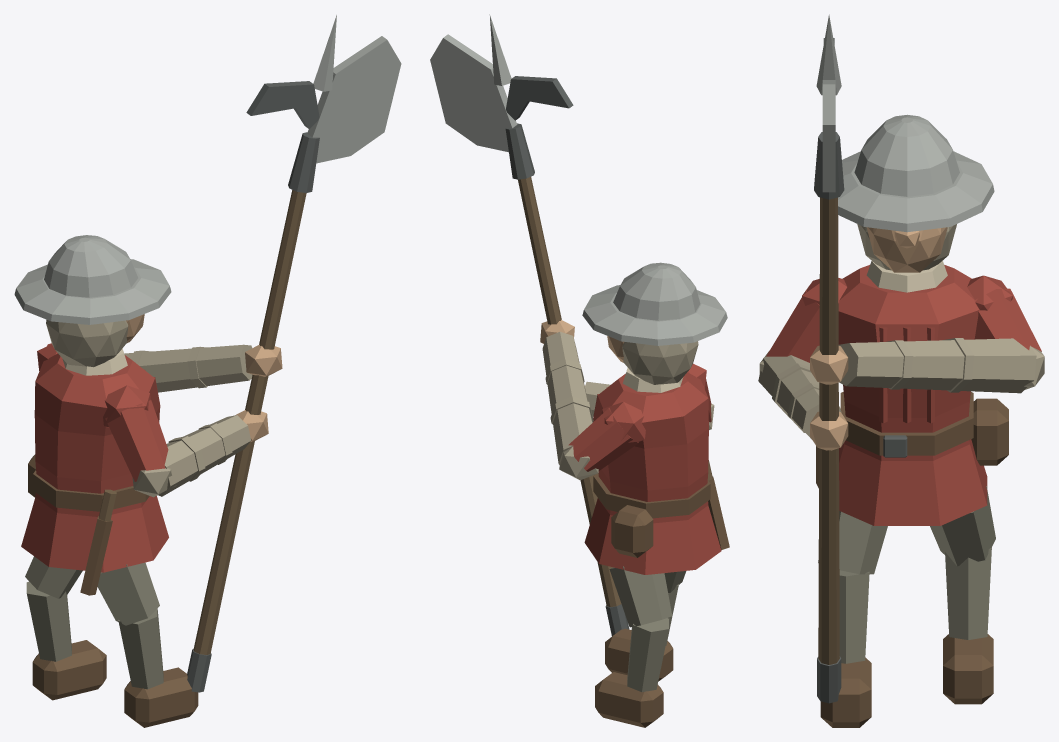
The model's file is infantry_halberd.glb.
The picture shows the model from 3 angles, left to right: view 1: azimuth 30°, elevation 25°; view 2: azimuth 150°, elevation 25°; view 3: azimuth 270°, elevation 25°; orthographic projection. The views are drawn at different scales.
Parts seen in each view (by area): view 1: infantry_halberd_team_cloth, infantry_halberd_steel, infantry_halberd_padded_linen, infantry_halberd_leather, infantry_halberd_hose, infantry_halberd_oak_dark, infantry_halberd_iron, infantry_halberd_skin, infantry_halberd_linen; view 2: infantry_halberd_team_cloth, infantry_halberd_steel, infantry_halberd_leather, infantry_halberd_padded_linen, infantry_halberd_hose, infantry_halberd_iron, infantry_halberd_oak_dark, infantry_halberd_skin, infantry_halberd_linen; view 3: infantry_halberd_team_cloth, infantry_halberd_steel, infantry_halberd_padded_linen, infantry_halberd_leather, infantry_halberd_hose, infantry_halberd_oak_dark, infantry_halberd_skin, infantry_halberd_iron, infantry_halberd_linen.
Boxes of the visible parts, <box> form: infantry_halberd_team_cloth: <box>21,343,168,572</box>; infantry_halberd_steel: <box>14,15,401,324</box>; infantry_halberd_padded_linen: <box>46,319,252,497</box>; infantry_halberd_leather: <box>28,454,198,727</box>; infantry_halberd_hose: <box>25,556,163,689</box>; infantry_halberd_oak_dark: <box>99,190,306,654</box>; infantry_halberd_iron: <box>187,81,319,692</box>; infantry_halberd_skin: <box>126,314,282,441</box>; infantry_halberd_linen: <box>62,348,127,375</box>; infantry_halberd_team_cloth: <box>568,363,721,574</box>; infantry_halberd_steel: <box>430,14,727,345</box>; infantry_halberd_leather: <box>593,473,729,727</box>; infantry_halberd_padded_linen: <box>542,331,714,480</box>; infantry_halberd_hose: <box>609,566,686,692</box>; infantry_halberd_iron: <box>505,76,629,635</box>; infantry_halberd_oak_dark: <box>518,177,712,606</box>; infantry_halberd_skin: <box>540,320,624,386</box>; infantry_halberd_linen: <box>623,368,683,392</box>; infantry_halberd_team_cloth: <box>766,265,1041,525</box>; infantry_halberd_steel: <box>816,14,994,232</box>; infantry_halberd_padded_linen: <box>758,224,1044,439</box>; infantry_halberd_leather: <box>816,392,1008,727</box>; infantry_halberd_hose: <box>818,486,995,663</box>; infantry_halberd_oak_dark: <box>818,197,839,664</box>; infantry_halberd_skin: <box>810,227,947,450</box>; infantry_halberd_iron: <box>814,38,907,703</box>; infantry_halberd_linen: <box>866,260,947,292</box>.
Size of the model in its own units: 1.39 by 2.6 by 0.8434.
